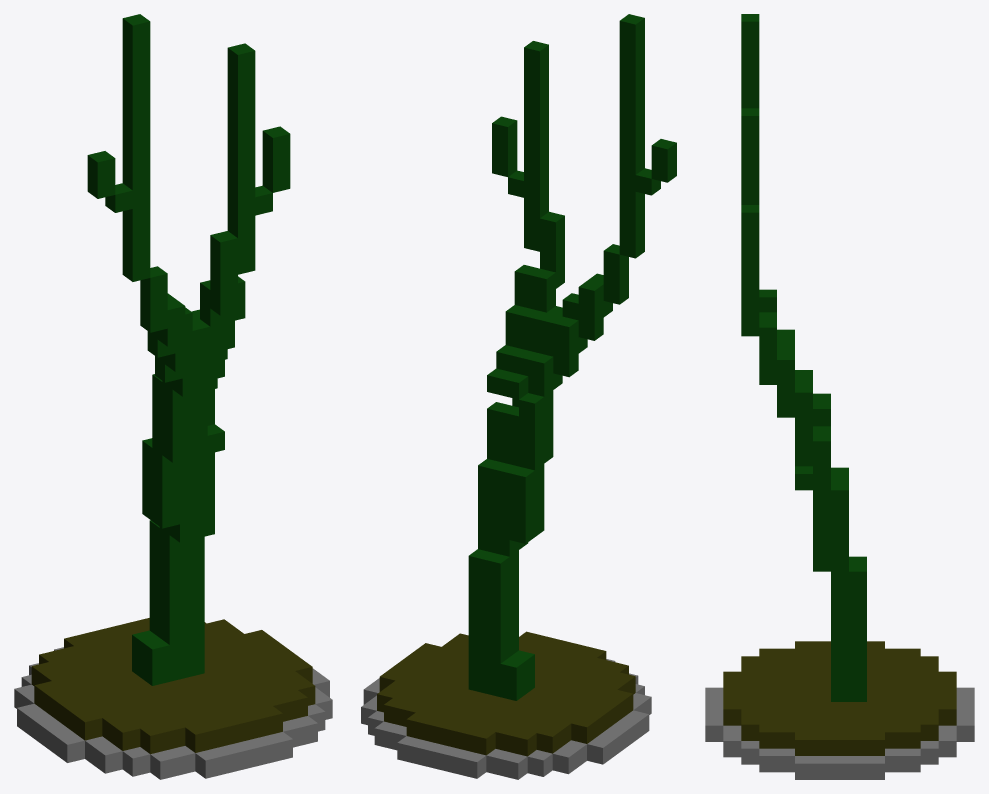
The model's file is deadTree.glb.
3 views of the same model, side by side, from view 1: azimuth 30°, elevation 25°; view 2: azimuth 150°, elevation 25°; view 3: azimuth 270°, elevation 25° (orthographic). The views are drawn at different scales.
Parts seen in each view (by area): view 1: ObjObject; view 2: ObjObject; view 3: ObjObject.
Part boxes in pixels (<box>): ObjObject: <box>14,14,332,779</box>; ObjObject: <box>361,14,676,779</box>; ObjObject: <box>705,14,974,779</box>.
Size of the model in its own units: 1.5 by 4.1 by 1.5.
1 material, 1 textured.
